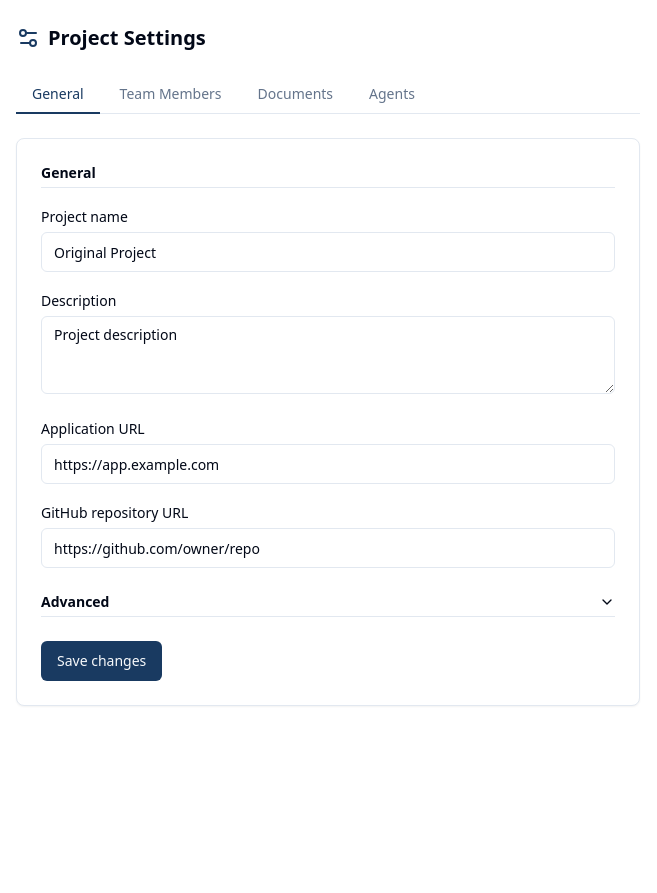
it: ProjectSettingsPage › Advanced settings section (AC4) › can add a new tag
Click the button with test id "toggle-advanced" at (75, 602), box [41,592,615,617]
(page scrolled)
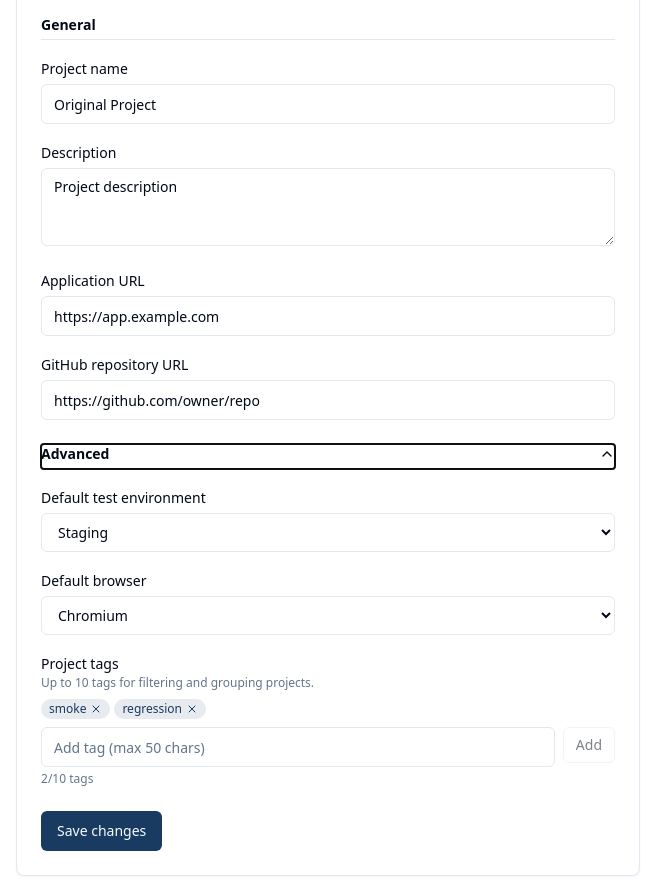
Now the field with test id "tag-input" is shown
Type "performance" into the field with test id "tag-input" at (298, 747), box [41,727,555,767]
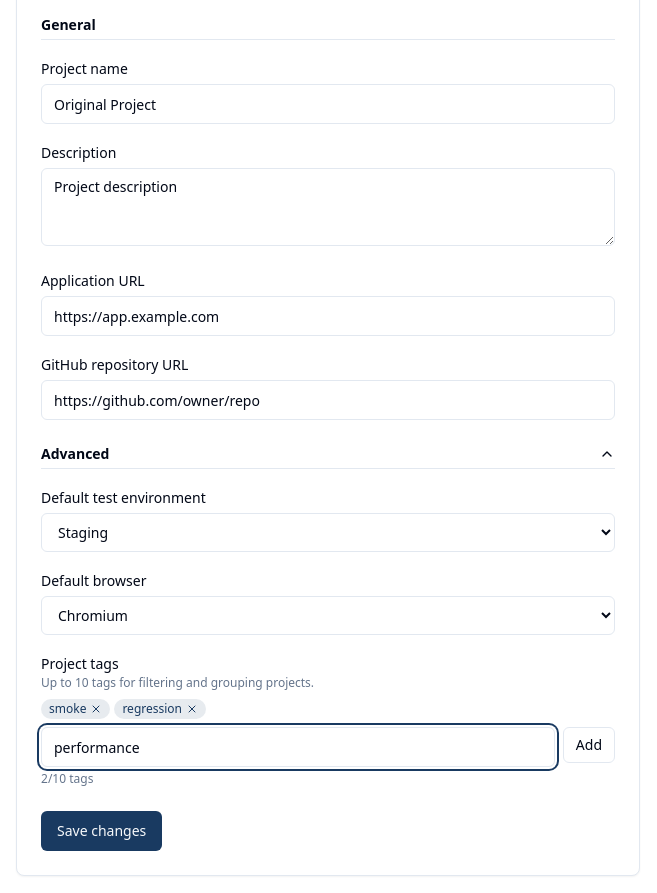
Click the button with test id "add-tag-btn" at (589, 745), box [563,727,615,763]
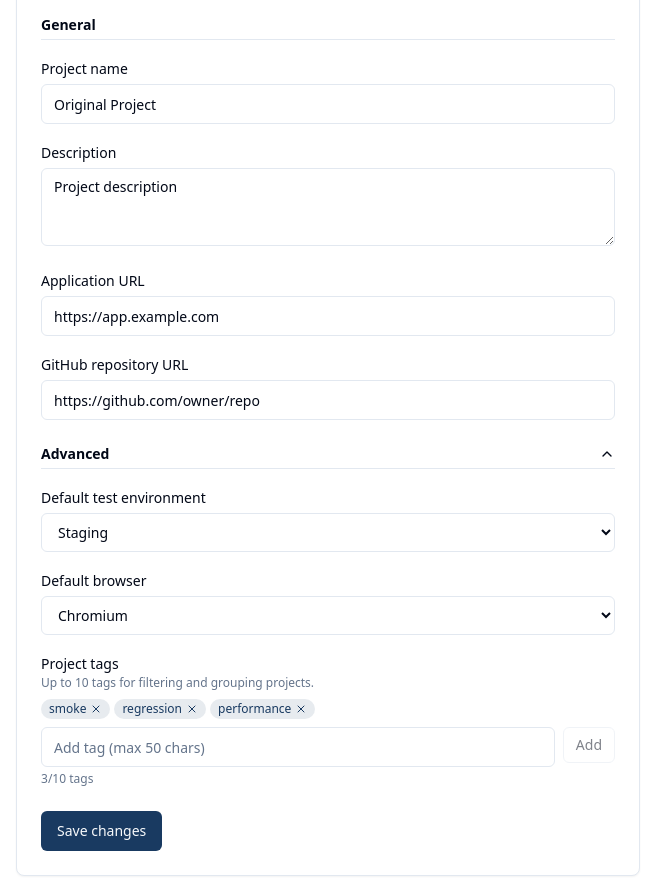
Now the text "performance" is shown, box [210,699,315,719]
